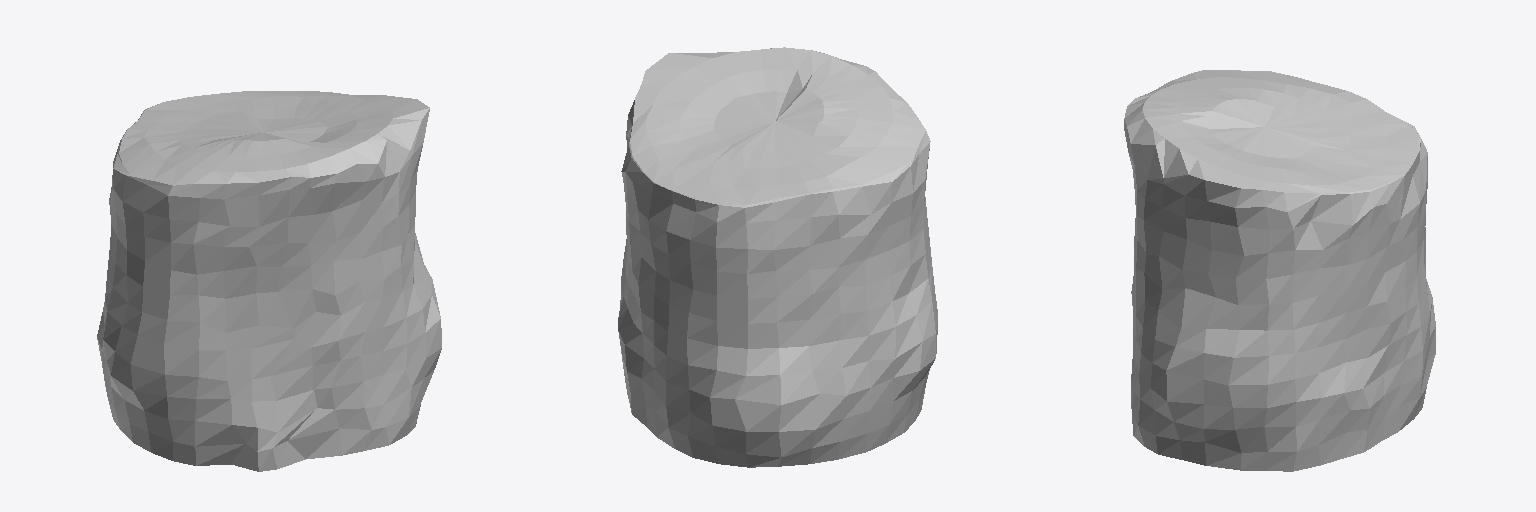
3 views of the same model, side by side, from view 1: azimuth 30°, elevation 25°; view 2: azimuth 150°, elevation 25°; view 3: azimuth 270°, elevation 25° (orthographic).
Parts seen in each view (by area): view 1: defaultMaterial; view 2: defaultMaterial; view 3: defaultMaterial.
Boxes of the visible parts, x1=… form: defaultMaterial: x1=97, y1=91, x2=441, y2=471; defaultMaterial: x1=618, y1=47, x2=937, y2=467; defaultMaterial: x1=1124, y1=70, x2=1435, y2=471.
Size of the model in its own units: 82.23 by 79.66 by 74.91.